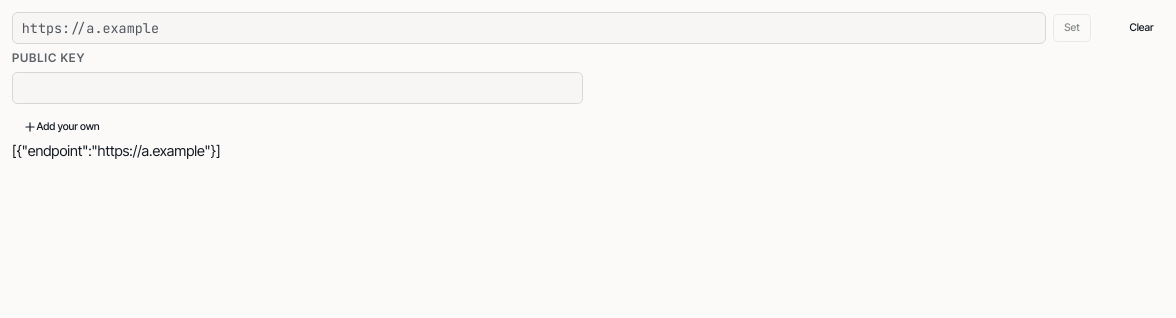
SchemaSetValueArrayControl › Set on the first of two pending rows keeps the second row and its draft
This screenshot has width=1176, height=318.
Click the button "Add your own": point(61, 127) [12, 113, 110, 141]
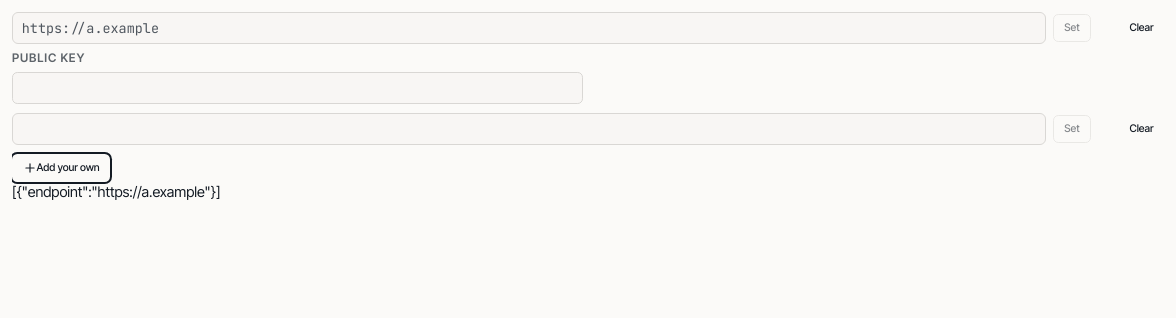
Click the button "Add your own": point(61, 168) [12, 154, 110, 182]
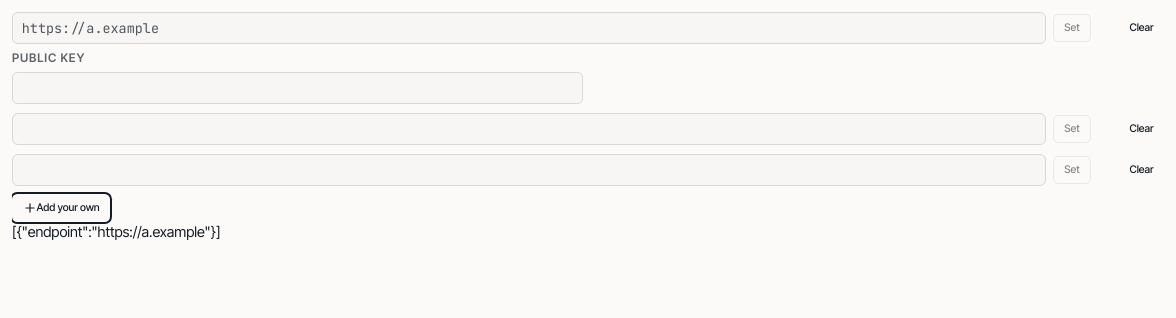
In the field named "Witnesses 2": point(529, 129) [12, 113, 1046, 145], type "https://one.example"
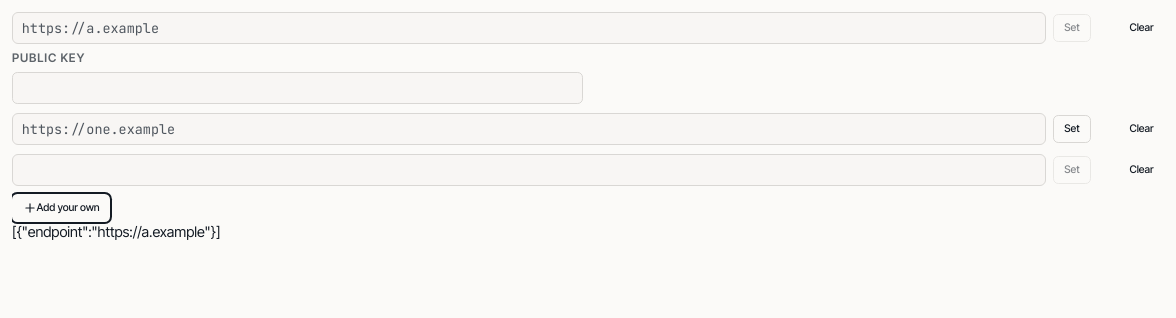
In the field named "Witnesses 3": point(529, 170) [12, 154, 1046, 186], type "https://two.example"
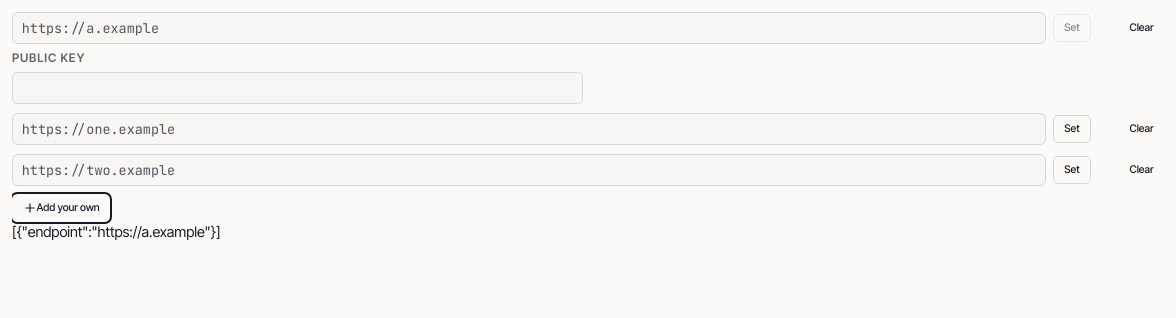
Click the 2nd button "Set": point(1072, 129) [1053, 115, 1091, 143]
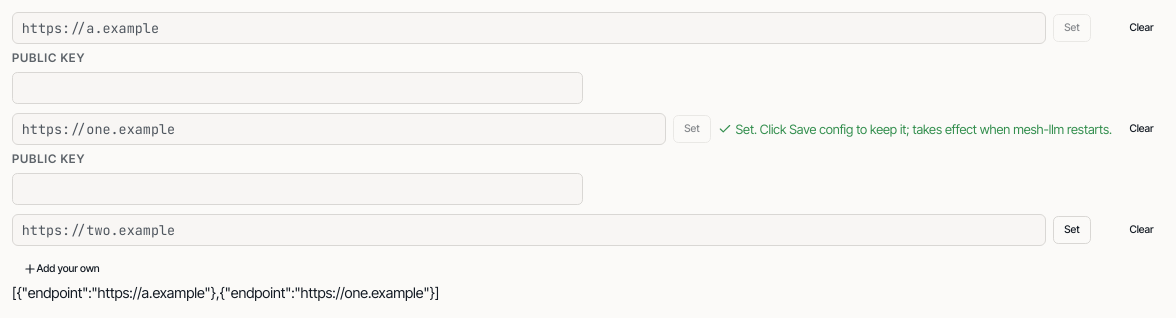
Check: the text with test id "value" shows "https://one.example", box [12, 284, 439, 302]
